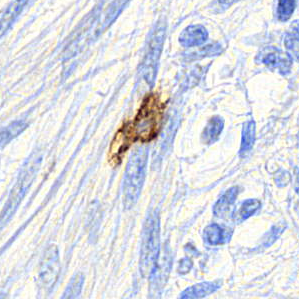Lymphocyte: (104, 93, 165, 167)
